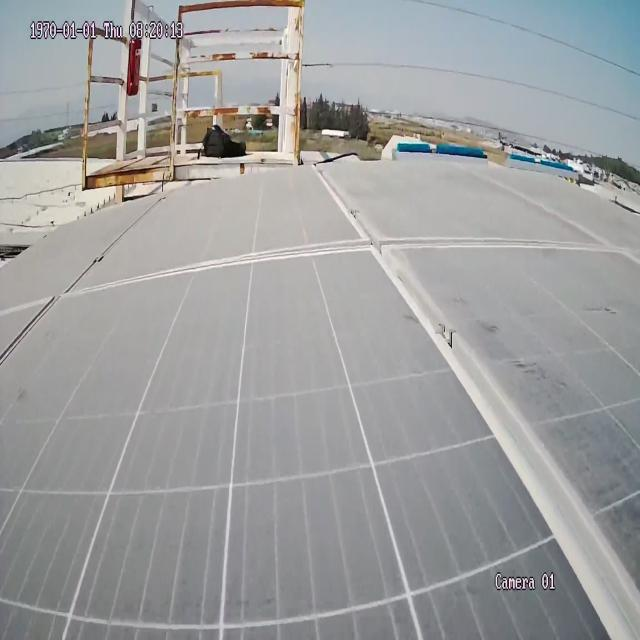interior panel: (0, 172, 640, 640)
